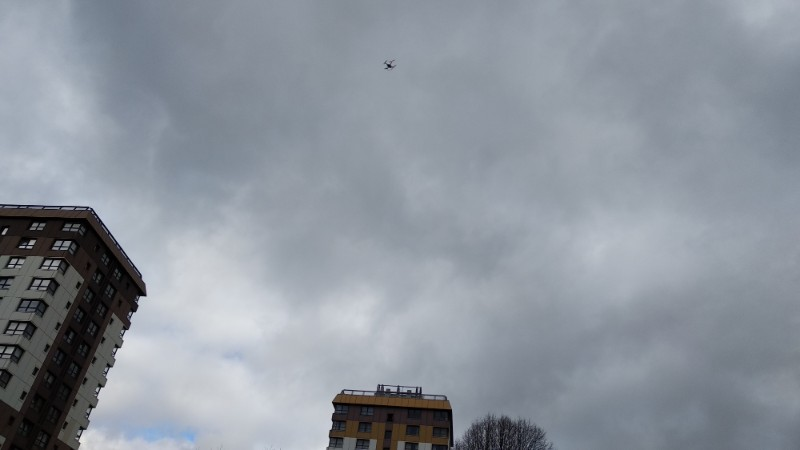drone: (382, 59, 395, 69)
